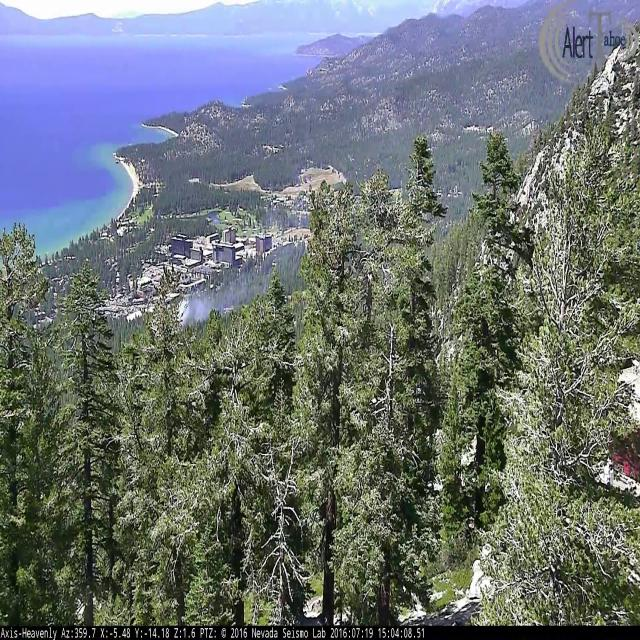smoke: (149, 230, 305, 354)
